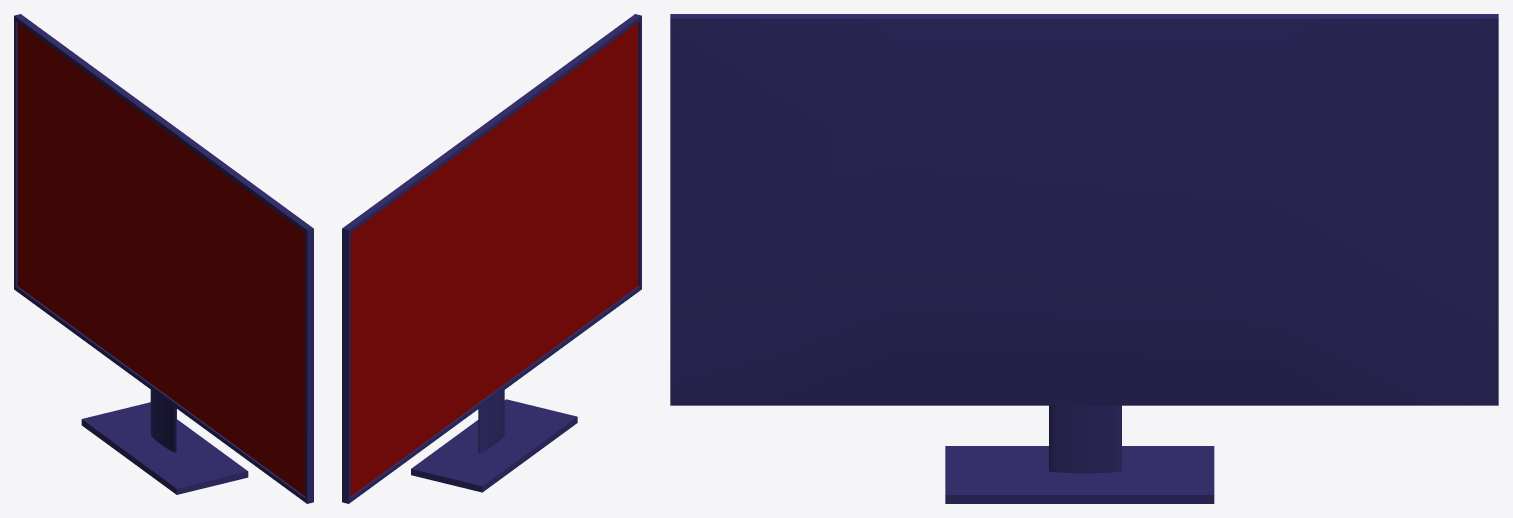
3 views of the same model, side by side, from view 1: azimuth 30°, elevation 25°; view 2: azimuth 150°, elevation 25°; view 3: azimuth 270°, elevation 25° (orthographic). The views are drawn at different scales.
Parts seen in each view (by area): view 1: L_TV; view 2: L_TV; view 3: L_TV.
Part boxes in pixels (box(x1,y1,x2,y2)): L_TV: box(14, 14, 313, 503); L_TV: box(342, 14, 641, 503); L_TV: box(670, 14, 1498, 503).
Size of the model in its own units: 21.94 by 96.31 by 156.
